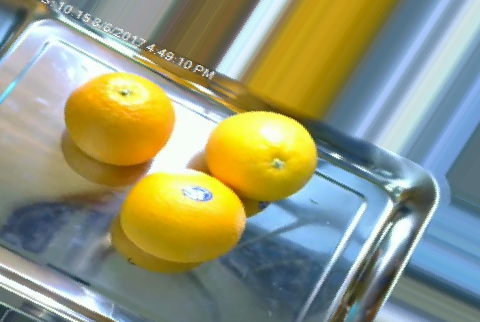Orange: (118, 166, 247, 263), (205, 110, 321, 204), (62, 73, 175, 166)
